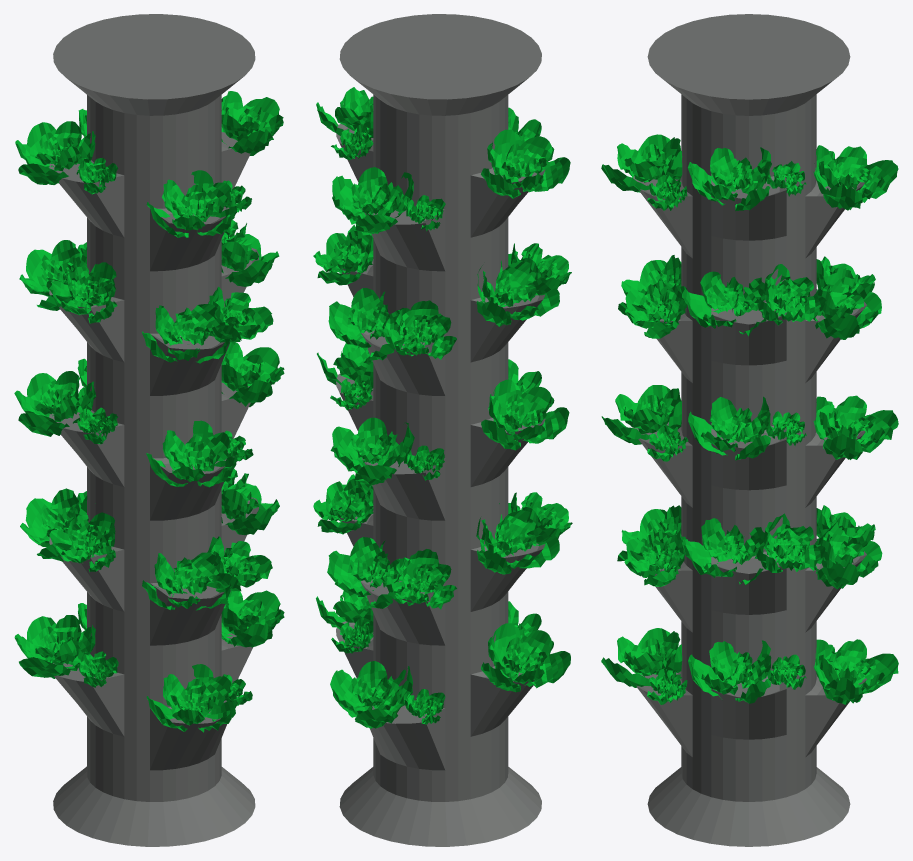
The model's file is vertical farming 1.fbx.
3 renders of one model, left to right at view 1: azimuth 30°, elevation 25°; view 2: azimuth 150°, elevation 25°; view 3: azimuth 270°, elevation 25°, orthographic.
Parts seen in each view (by area): view 1: Cylinder.001, Plane.001; view 2: Cylinder.001, Plane.001; view 3: Cylinder.001, Plane.001.
Part boxes in pixels (x1=…): Cylinder.001: x1=49, y1=14, x2=259, y2=846; Plane.001: x1=14, y1=91, x2=284, y2=732; Cylinder.001: x1=336, y1=14, x2=545, y2=846; Plane.001: x1=313, y1=87, x2=572, y2=728; Cylinder.001: x1=632, y1=14, x2=866, y2=846; Plane.001: x1=601, y1=134, x2=898, y2=704.
Bounding box in the file's own units: 438 × 1220 × 441.
